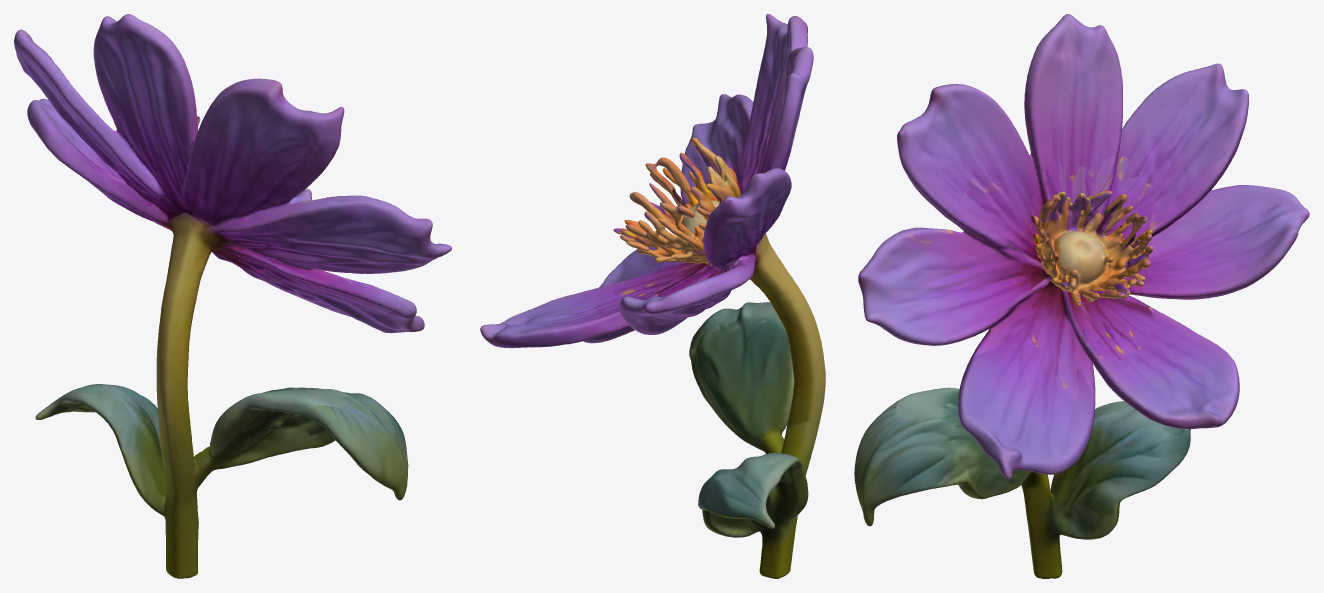
File: flower_compressed.glb
The picture shows the model from 3 angles, left to right: view 1: azimuth 30°, elevation 25°; view 2: azimuth 150°, elevation 25°; view 3: azimuth 270°, elevation 25°; orthographic projection. The views are drawn at different scales.
Visible parts, largest first — view 1: tripo_node_53f74353-fbae-43a5-8bc6-f9bbeae496f4; view 2: tripo_node_53f74353-fbae-43a5-8bc6-f9bbeae496f4; view 3: tripo_node_53f74353-fbae-43a5-8bc6-f9bbeae496f4.
Boxes of the visible parts, left/top/right/bottom form: tripo_node_53f74353-fbae-43a5-8bc6-f9bbeae496f4: left=14, top=14, right=451, bottom=578; tripo_node_53f74353-fbae-43a5-8bc6-f9bbeae496f4: left=480, top=14, right=825, bottom=578; tripo_node_53f74353-fbae-43a5-8bc6-f9bbeae496f4: left=854, top=14, right=1309, bottom=578.
Size of the model in its own units: 0.5295 by 0.9449 by 0.7233.
Materials: 1 (1 with a texture image).
